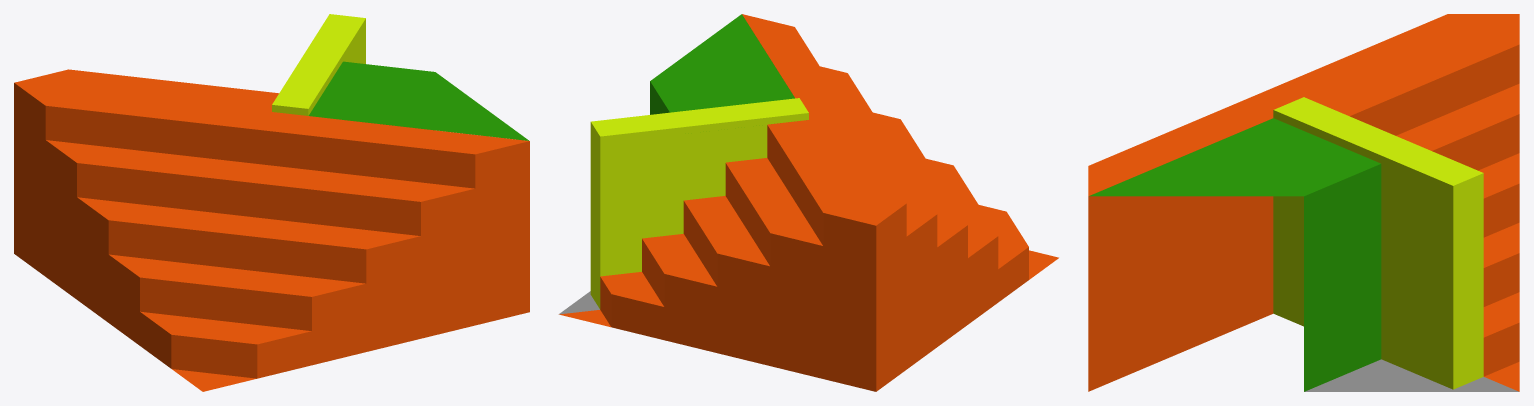
3 renders of one model, left to right at view 1: azimuth 30°, elevation 25°; view 2: azimuth 150°, elevation 25°; view 3: azimuth 270°, elevation 25°, orthographic. The views are drawn at different scales.
Parts seen in each view (by area): view 1: T_a_b_0; view 2: T_a_b_0; view 3: T_a_b_0.
Boxes of the visible parts, left/top/right/bottom form: T_a_b_0: left=14, top=14, right=529, bottom=391; T_a_b_0: left=558, top=14, right=1058, bottom=391; T_a_b_0: left=1088, top=14, right=1519, bottom=391.
Size of the model in its own units: 99.81 by 51.98 by 99.81.
